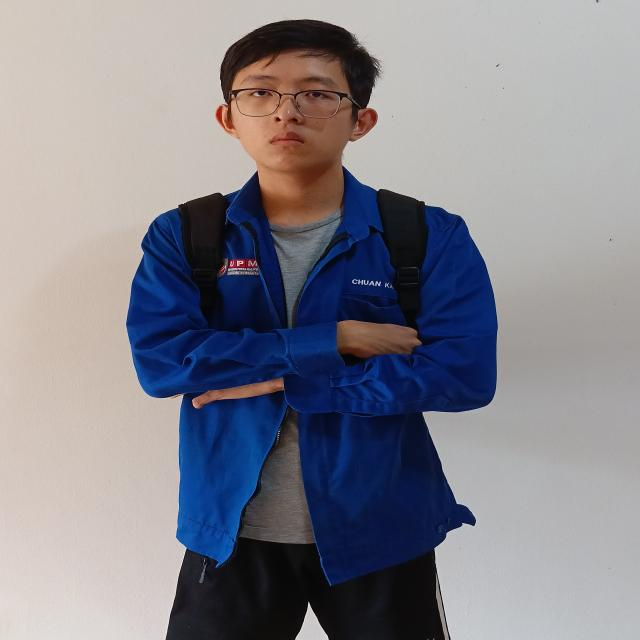person_with_labcoat: (127, 20, 497, 640)
